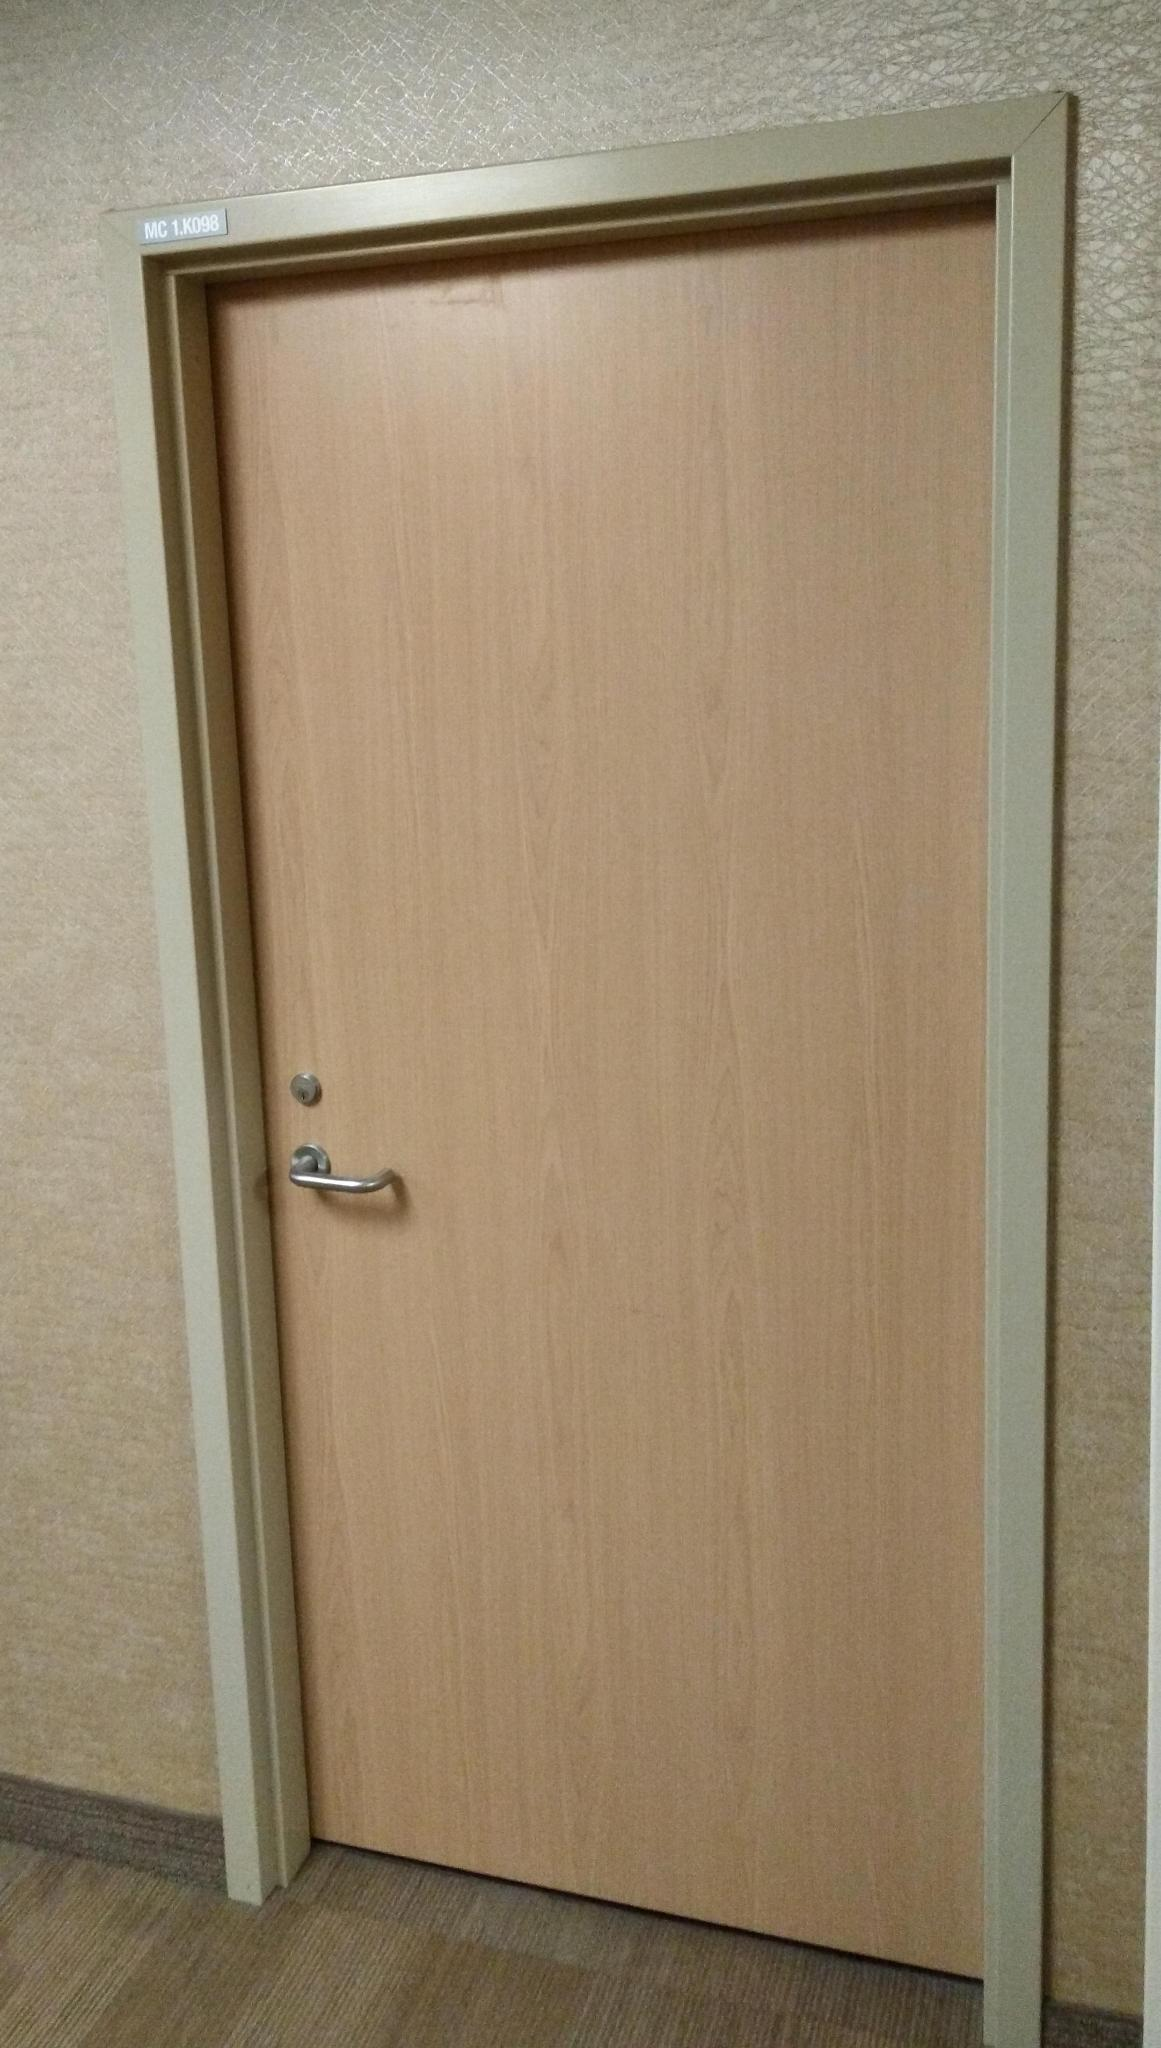door: (250, 356, 965, 1909)
handle: (286, 1129, 387, 1222)
